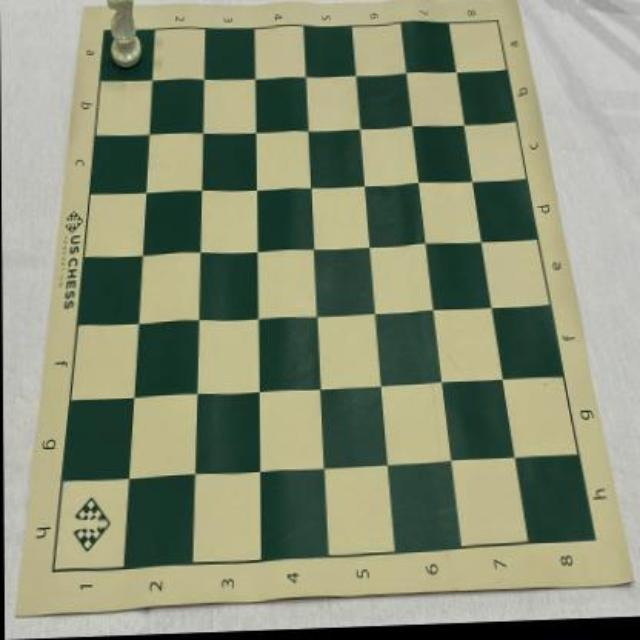white-knight: (105, 0, 145, 72)
